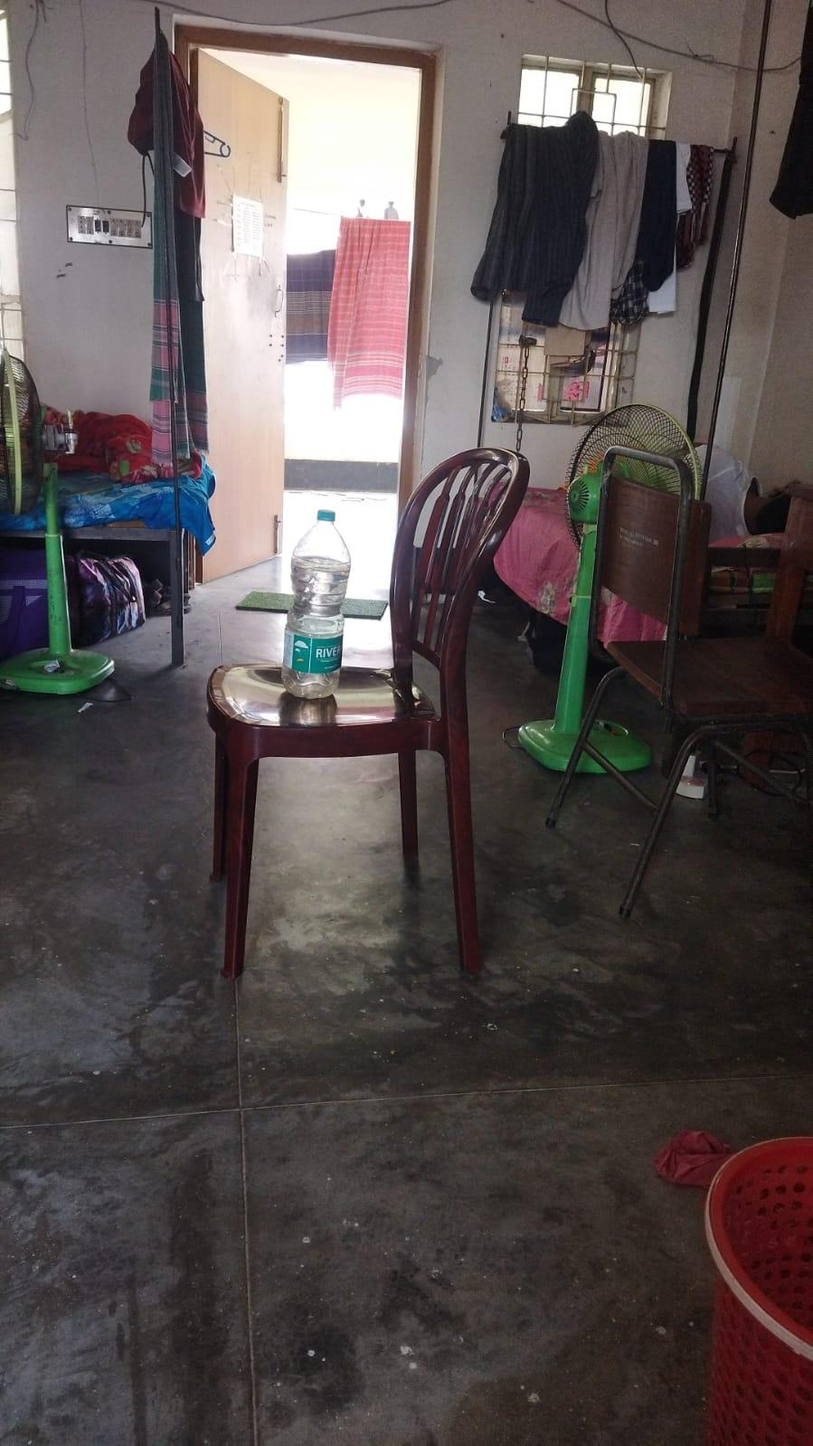Basket: (674, 1095, 813, 1446)
Bottle: (281, 483, 351, 688)
Chair: (214, 392, 506, 1009), (594, 418, 781, 940)
Door: (185, 48, 281, 594)
Fan: (523, 376, 697, 781), (0, 323, 63, 726)
Floor Mat: (227, 567, 388, 621)
